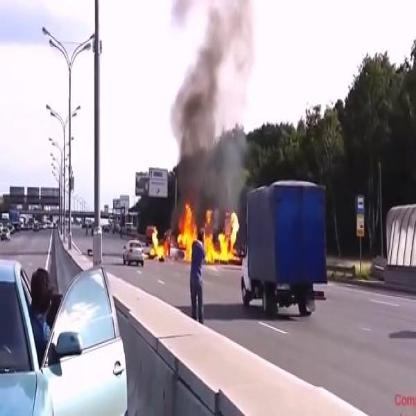fire: (176, 199, 240, 268), (148, 225, 168, 264)
